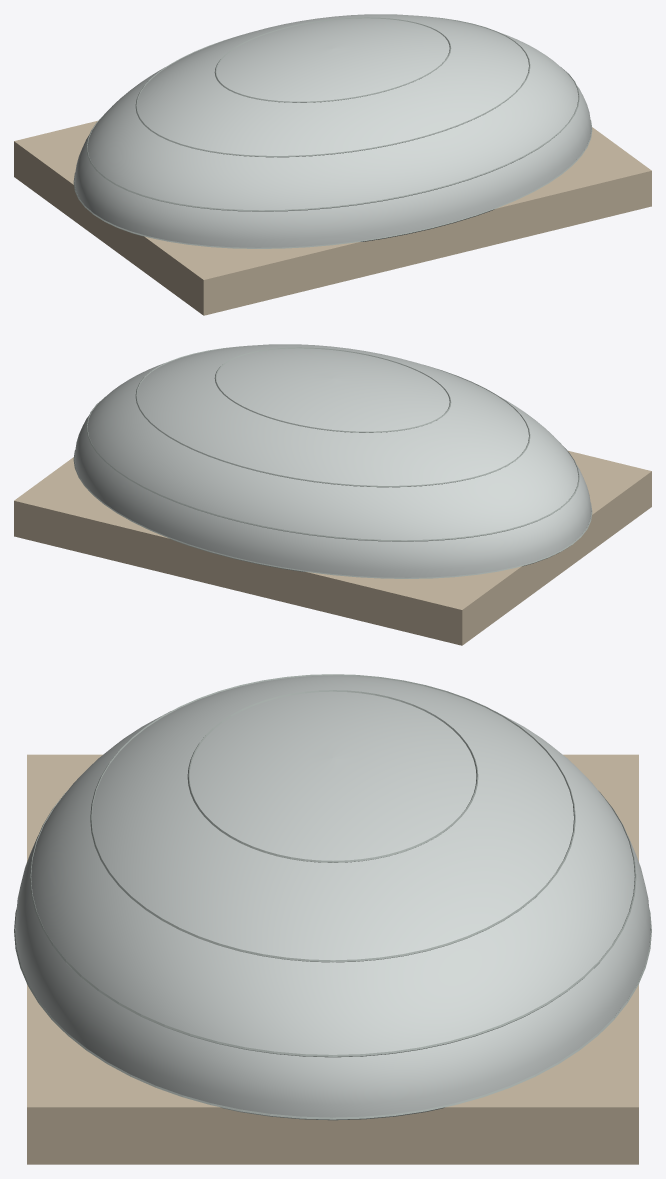
Rendered from taipei-dome.glb.
3 views of the same model, one above another, from view 1: azimuth 30°, elevation 25°; view 2: azimuth 150°, elevation 25°; view 3: azimuth 270°, elevation 25° (orthographic). The views are drawn at different scales.
Visible parts, largest first — view 1: Elliptical titanium shell, Stadium plinth, Torus.002, Torus.001, Torus.003, Torus; view 2: Elliptical titanium shell, Stadium plinth, Torus.002, Torus.001, Torus.003, Torus; view 3: Elliptical titanium shell, Stadium plinth, Torus.001, Torus.002, Torus.003, Torus.
Part boxes in pixels (<box>): Elliptical titanium shell: <box>74,14,591,247</box>; Stadium plinth: <box>14,120,651,315</box>; Torus.002: <box>86,67,579,211</box>; Torus.001: <box>135,16,530,157</box>; Torus.003: <box>73,120,592,248</box>; Torus: <box>214,17,451,102</box>; Elliptical titanium shell: <box>74,344,591,577</box>; Stadium plinth: <box>14,450,651,645</box>; Torus.002: <box>86,397,579,541</box>; Torus.001: <box>135,346,530,487</box>; Torus.003: <box>73,450,592,578</box>; Torus: <box>214,347,451,432</box>; Elliptical titanium shell: <box>15,675,650,1117</box>; Stadium plinth: <box>27,754,638,1164</box>; Torus.001: <box>90,674,575,962</box>; Torus.002: <box>29,791,636,1057</box>; Torus.003: <box>14,907,651,1120</box>; Torus: <box>187,690,478,862</box>.
Size of the model in its own units: 225 by 64 by 161.
